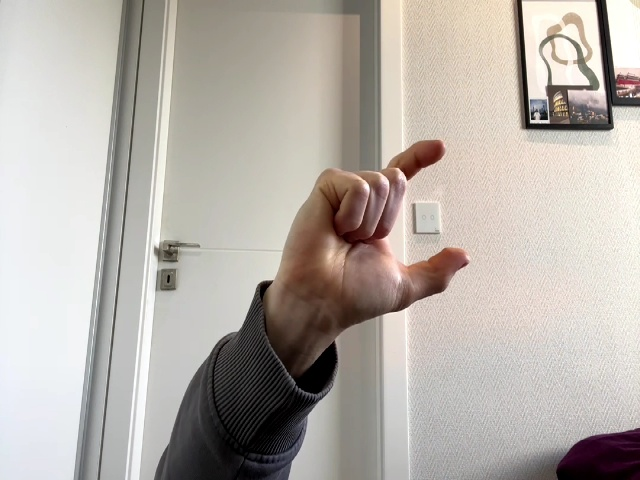C: (278, 140, 469, 336)
